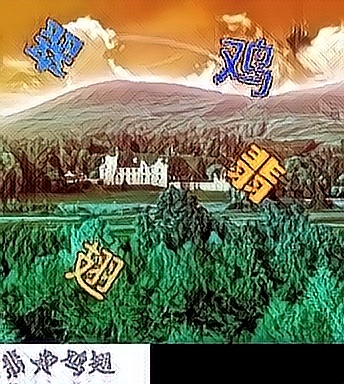B3E1: (63, 238, 129, 302)
B4E4: (20, 17, 86, 81)
BCA6: (211, 33, 277, 97)
F4E4: (220, 142, 286, 206)
